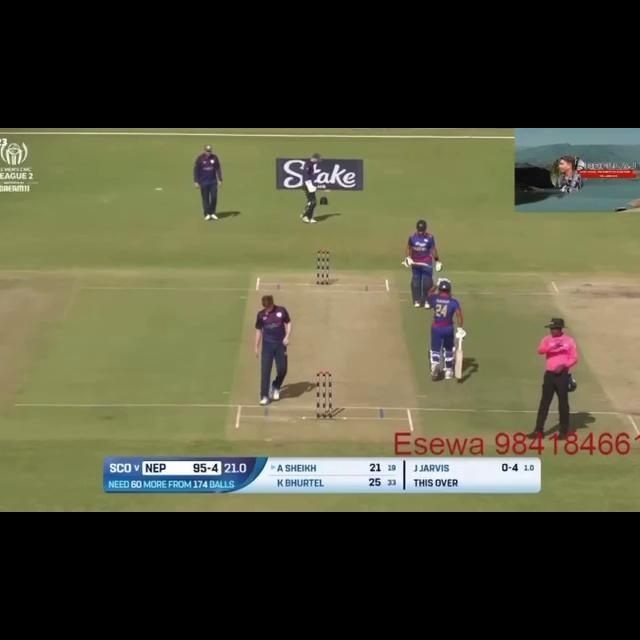umpire: (524, 309, 589, 441)
